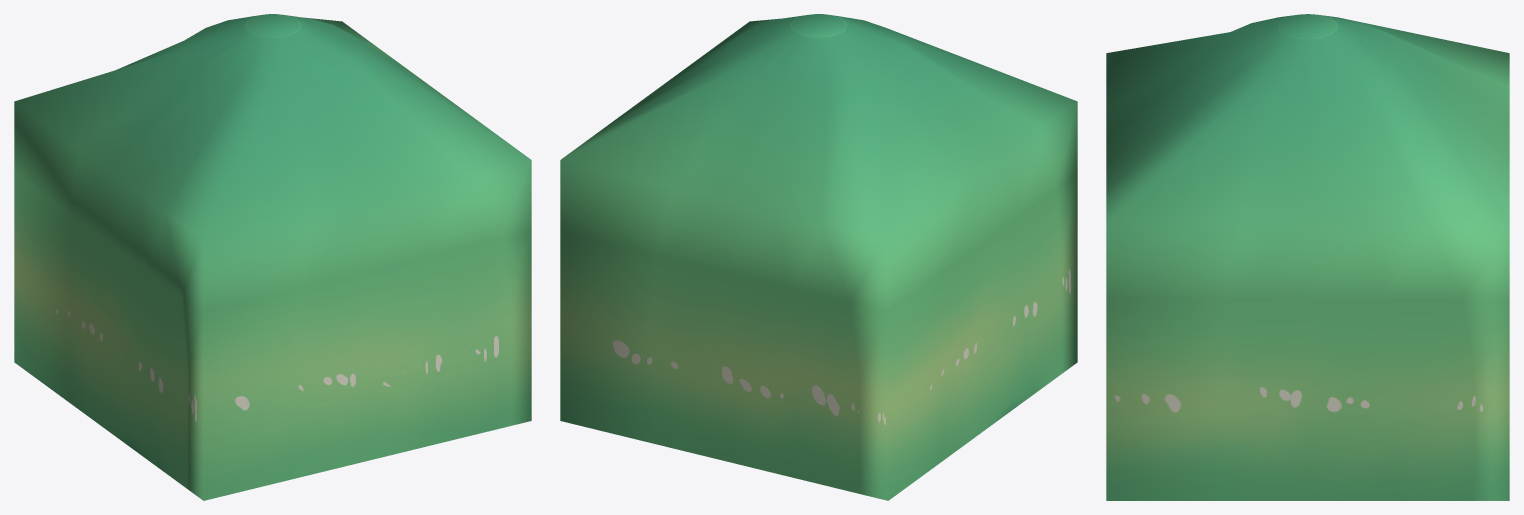
File: boxy_hillFBX.fbx
The picture shows the model from 3 angles, left to right: view 1: azimuth 30°, elevation 25°; view 2: azimuth 150°, elevation 25°; view 3: azimuth 270°, elevation 25°; orthographic projection. The views are drawn at different scales.
Visible parts, largest first — view 1: pCylinder2; view 2: pCylinder2; view 3: pCylinder2.
Part boxes in pixels (x1,y1,x2,y2): pCylinder2: [14, 14, 531, 500]; pCylinder2: [560, 14, 1077, 500]; pCylinder2: [1106, 14, 1509, 500].
Size of the model in its own units: 6.17 by 6.57 by 6.17.
